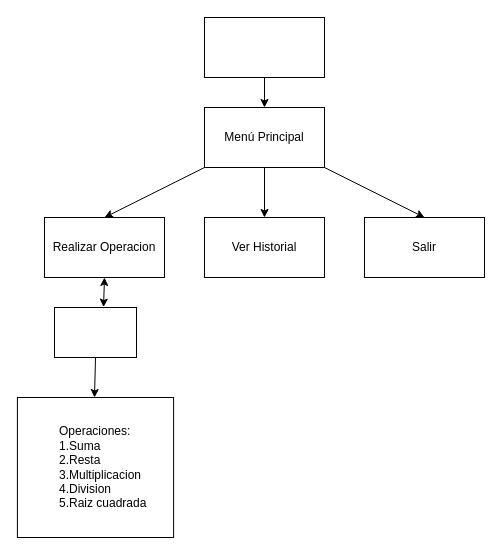
Some shapes in this 503 by 555 pixel diagram are drawn without their labels. Here are the shapes that lost their labels. From the top down, the box of each, then its label:
(204, 16, 324, 78): Usuario
(54, 306, 136, 358): Menú Operaciones
